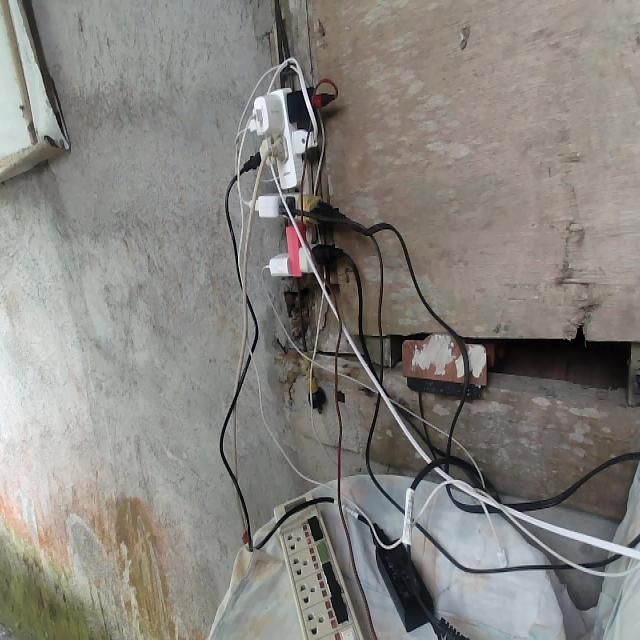-: (236, 79, 330, 282)
